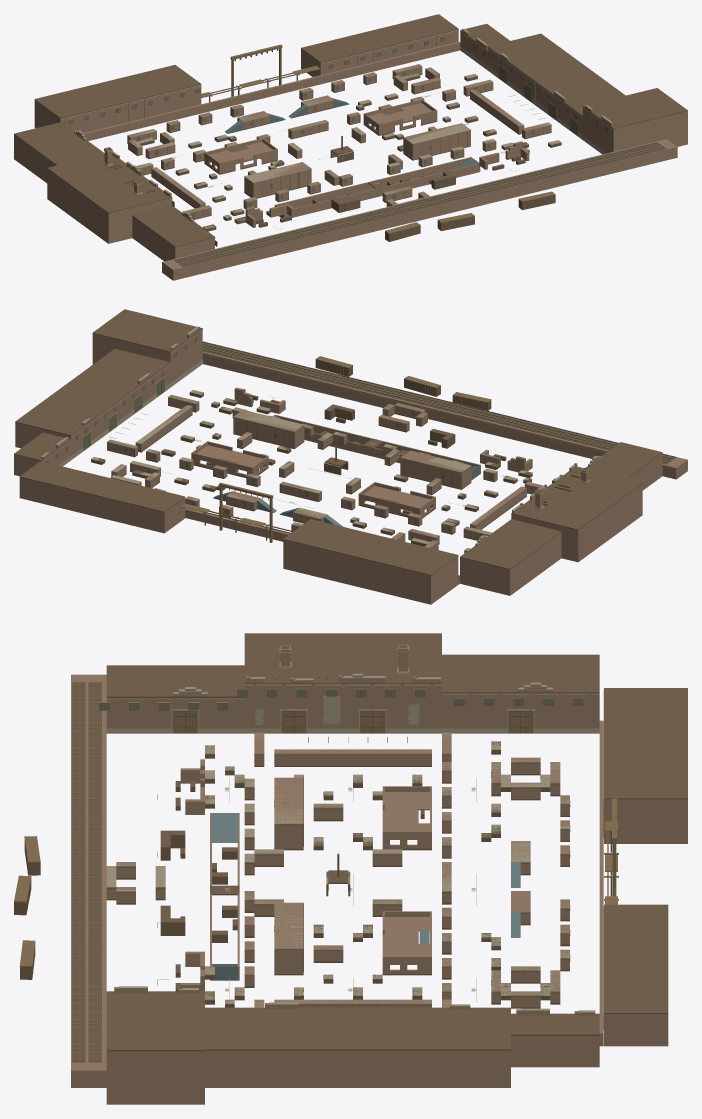
File: relay-architecture.glb
3 renders of one model, top to bottom at view 1: azimuth 30°, elevation 25°; view 2: azimuth 150°, elevation 25°; view 3: azimuth 270°, elevation 25°, orthographic. The views are drawn at different scales.
Parts seen in each view (by area): view 1: relay-original-architecture; view 2: relay-original-architecture; view 3: relay-original-architecture.
Boxes of the visible parts, x1,y1,x2,y2 form: relay-original-architecture: [14, 14, 687, 280]; relay-original-architecture: [14, 309, 687, 604]; relay-original-architecture: [14, 633, 687, 1104].
Bounding box in the file's own units: 202 × 19.88 × 137.
